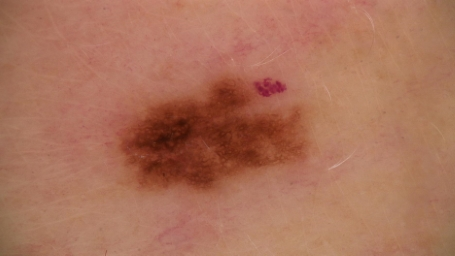nevus: (117, 82, 304, 192)
